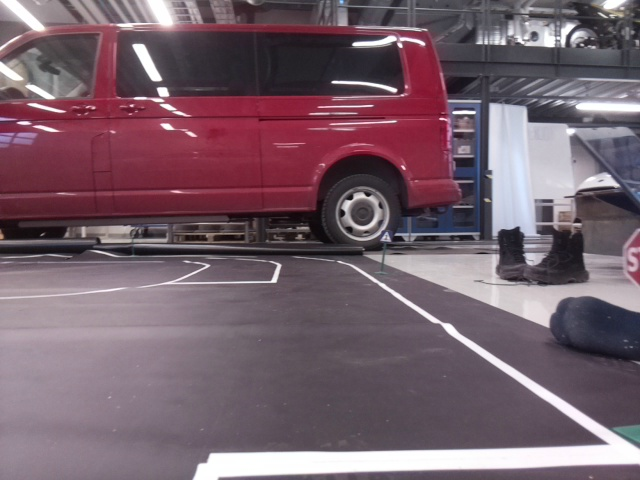Crosswalk: (380, 229, 391, 243)
